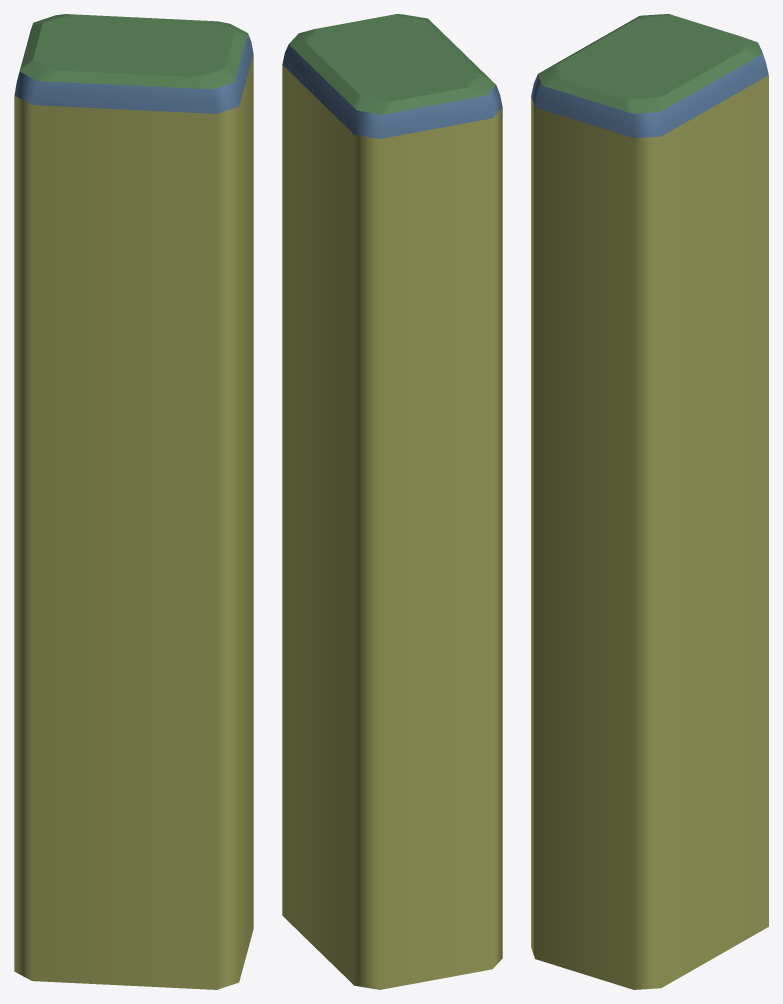
Rendered from Sexta_PLat.fbx.
3 views of the same model, side by side, from view 1: azimuth 30°, elevation 25°; view 2: azimuth 150°, elevation 25°; view 3: azimuth 270°, elevation 25° (orthographic). The views are drawn at different scales.
Parts seen in each view (by area): view 1: Sexta_Plat, Ground13, Wall11; view 2: Sexta_Plat, Ground13, Wall11; view 3: Sexta_Plat, Ground13, Wall11.
Part boxes in pixels (left/top/right/bottom): Sexta_Plat: left=14, top=54, right=253, bottom=989; Ground13: left=20, top=14, right=247, bottom=89; Wall11: left=14, top=26, right=253, bottom=113; Sexta_Plat: left=282, top=65, right=502, bottom=989; Ground13: left=289, top=14, right=495, bottom=114; Wall11: left=282, top=44, right=502, bottom=138; Sexta_Plat: left=531, top=75, right=768, bottom=989; Ground13: left=538, top=14, right=761, bottom=113; Wall11: left=531, top=45, right=768, bottom=138.
Size of the model in its own units: 4193 by 16294 by 3990.
